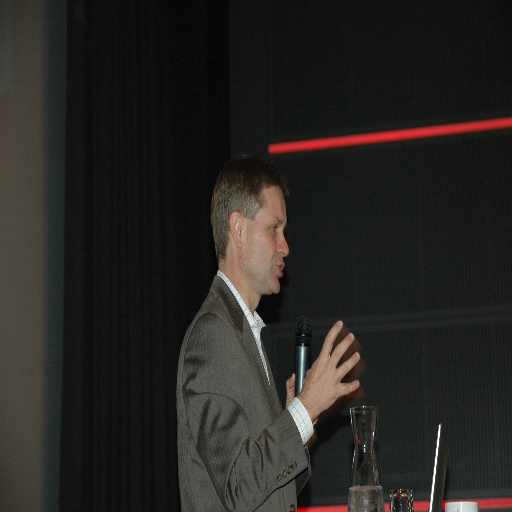hand: (298, 338, 361, 429), (284, 369, 318, 425)
